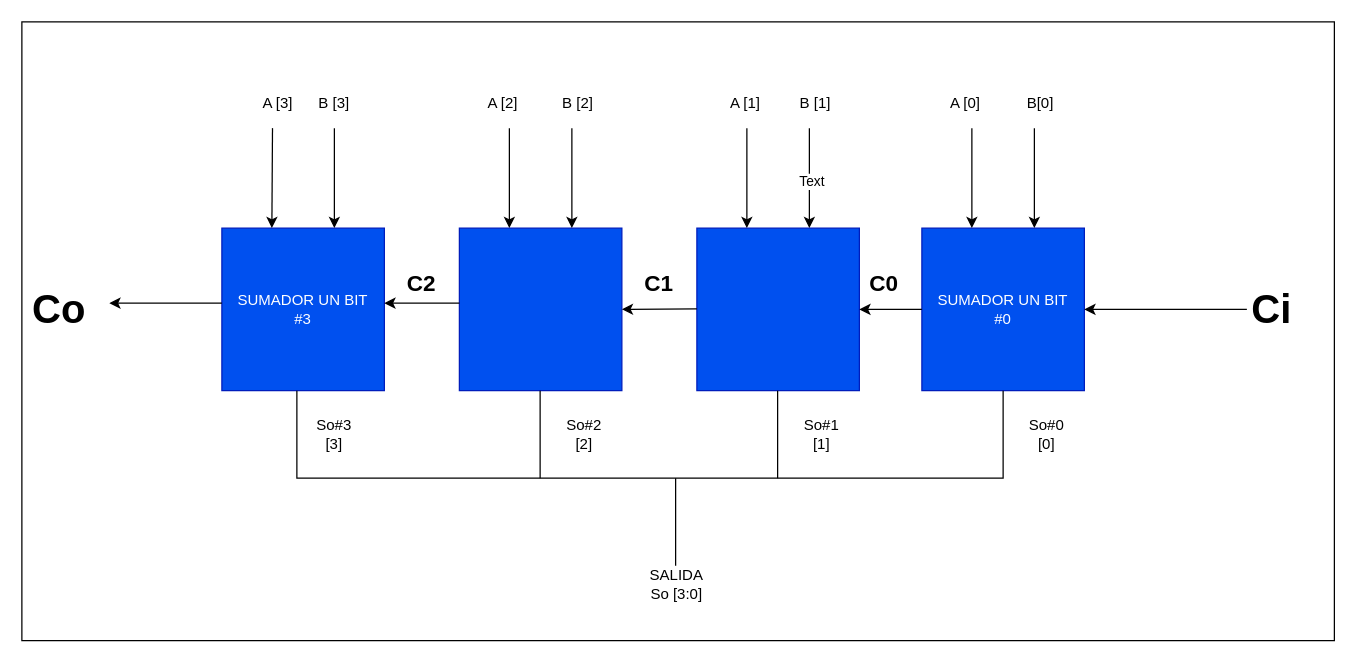
The diagram is 1356 pixels wide and 663 high, and some of its shapes have lost their labels. The shapes that lost their labels are listed below. From the top down, each one's centre as x and y in pixels, then its label:
At point 540,309: "SUMADOR UN BIT #2".
At point 777,309: "SUMADOR UN BIT #1".
